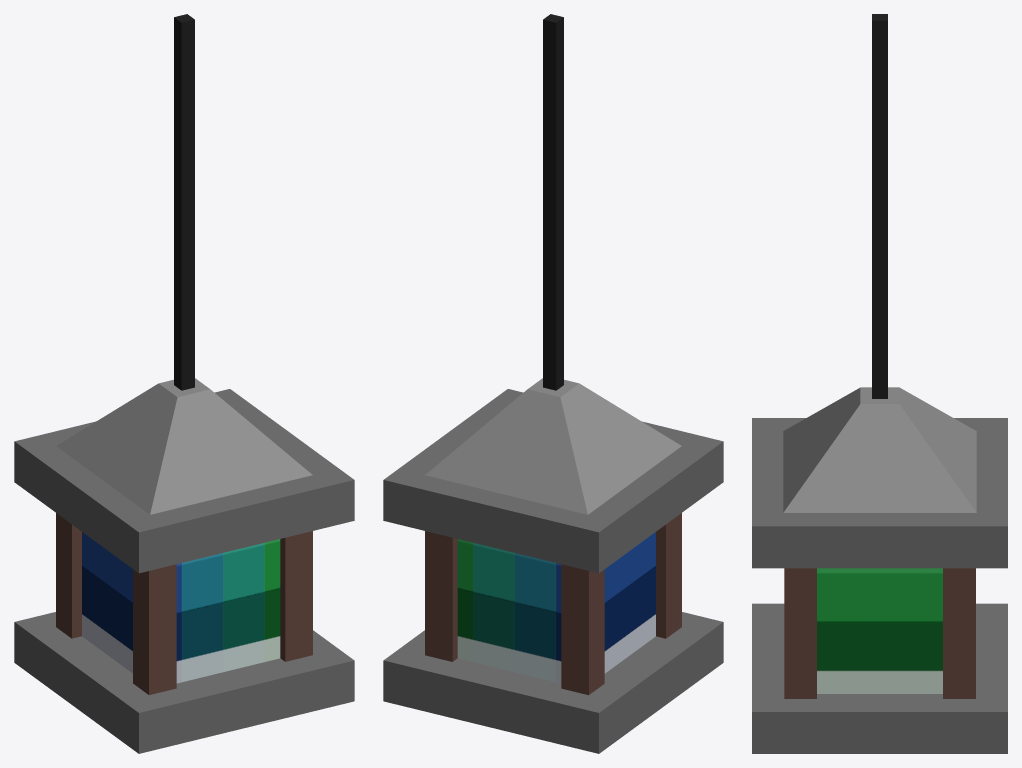
File: Lamp 01.FBX
The picture shows the model from 3 angles, left to right: view 1: azimuth 30°, elevation 25°; view 2: azimuth 150°, elevation 25°; view 3: azimuth 270°, elevation 25°; orthographic projection. The views are drawn at different scales.
Visible parts, largest first — view 1: Lamp 01, Lamp 01 Light; view 2: Lamp 01, Lamp 01 Light; view 3: Lamp 01, Lamp 01 Light.
Boxes of the visible parts, <box> form: Lamp 01: <box>14,14,354,753</box>; Lamp 01 Light: <box>82,532,280,683</box>; Lamp 01: <box>383,14,723,753</box>; Lamp 01 Light: <box>457,532,655,683</box>; Lamp 01: <box>752,14,1007,753</box>; Lamp 01 Light: <box>817,568,942,693</box>.
Bounding box in the file's own units: 32.81 × 96.53 × 32.81.
